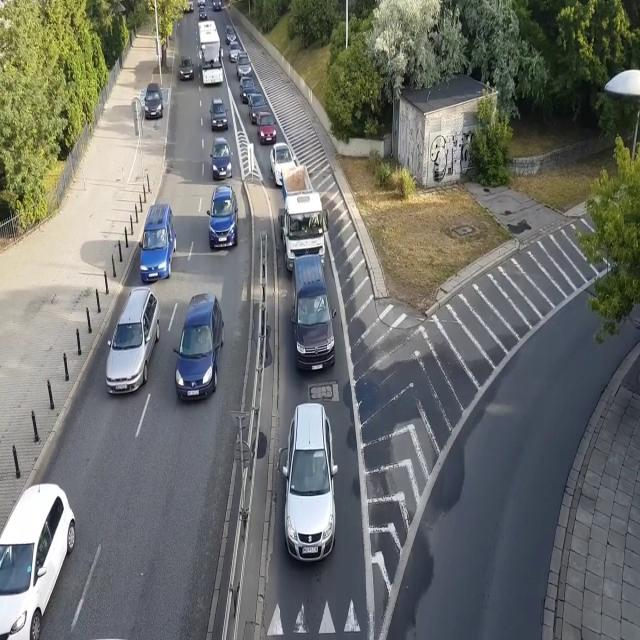bus: (197, 18, 225, 86)
car: (0, 481, 76, 640), (284, 400, 339, 566), (104, 285, 162, 395), (172, 294, 226, 406), (138, 204, 178, 280), (206, 183, 238, 252), (269, 144, 297, 184), (209, 137, 233, 181), (209, 94, 229, 132), (144, 83, 164, 119), (248, 93, 267, 125), (259, 112, 276, 143), (236, 50, 252, 79), (177, 55, 195, 79), (240, 75, 256, 102), (225, 24, 238, 44), (229, 42, 241, 63), (182, 2, 194, 14), (199, 8, 209, 22), (212, 0, 222, 9), (198, 0, 205, 6)
truck: (277, 164, 331, 272)
van: (290, 255, 337, 374)
